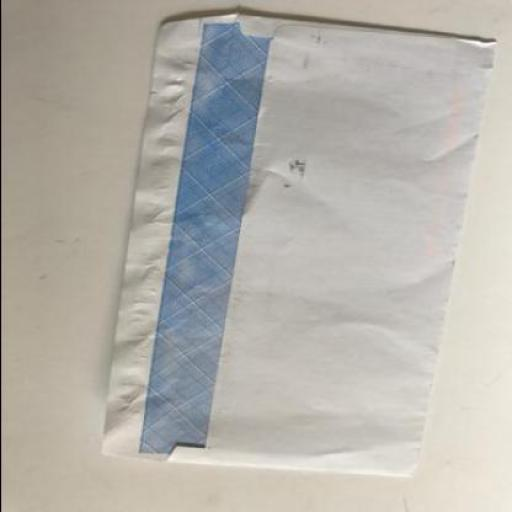paper: (96, 13, 498, 481)
